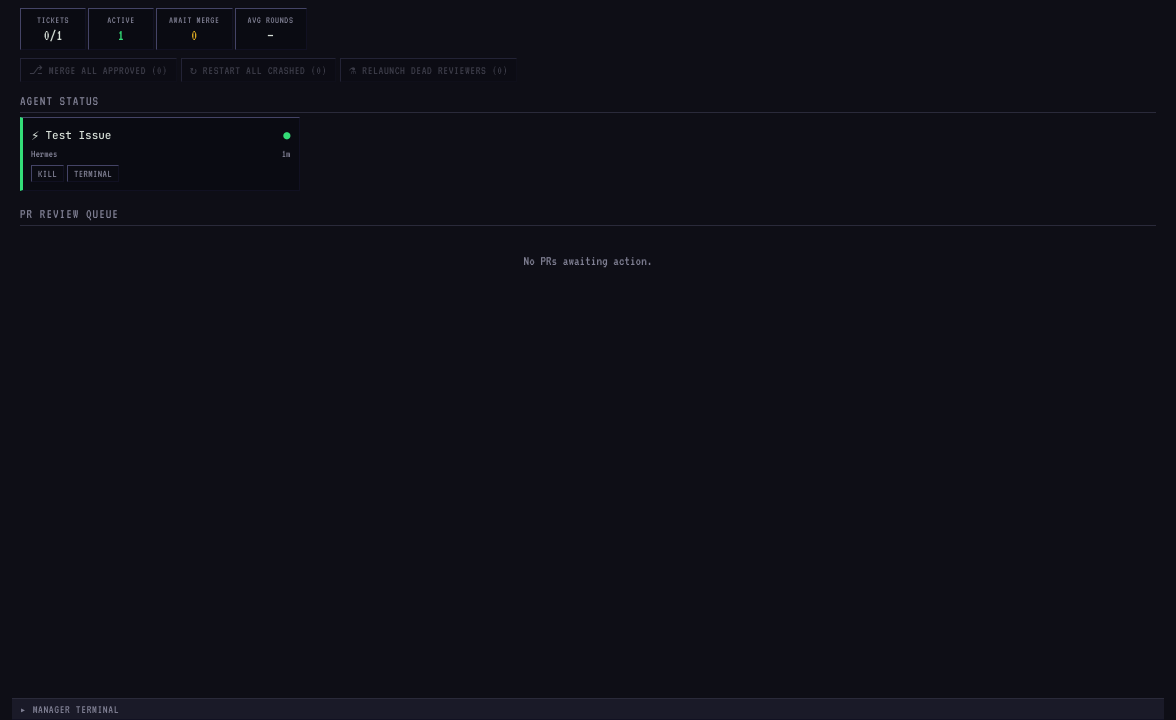
ManagerView › Exception Handling › catches rejected promise in handleKill and shows error
What coordinates should you click on to do the following:
click the button "KILL"
I would click on:
 (48, 173)
Its box is [31, 165, 64, 182].
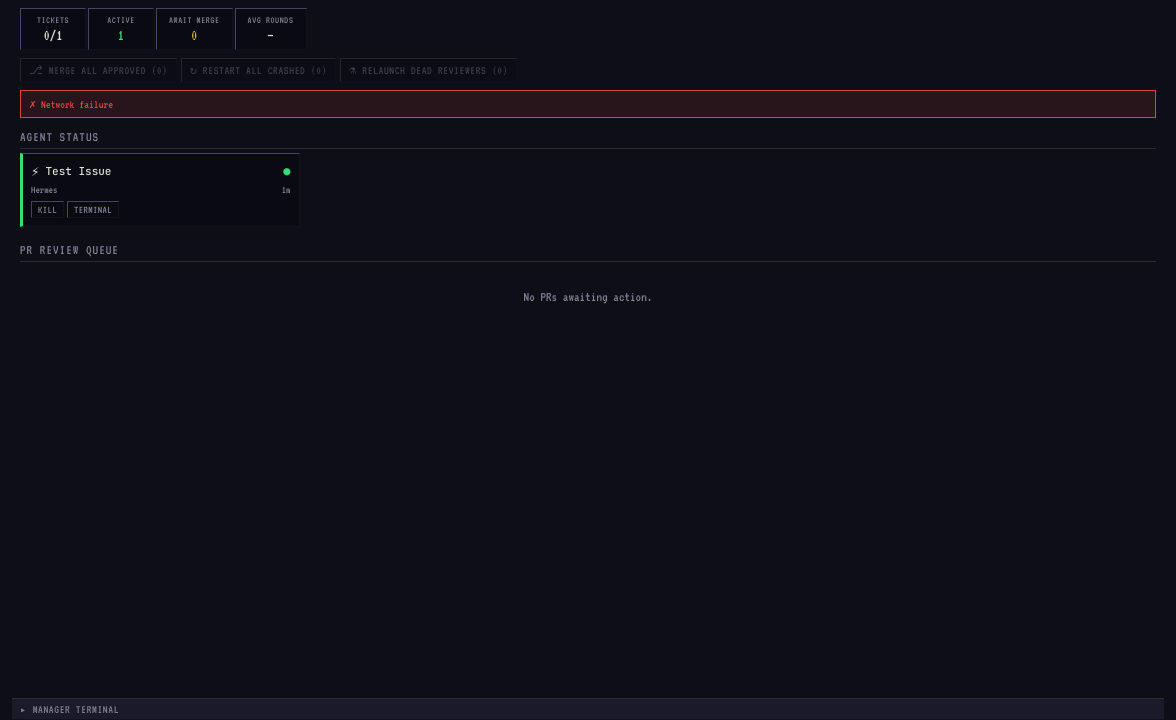
Result: the text "✗ Network failure" is shown at [20, 90, 1156, 118]
